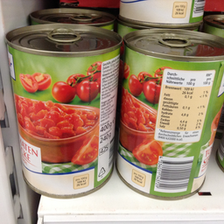tomato_sauce: (4, 22, 123, 199), (116, 28, 224, 201)
